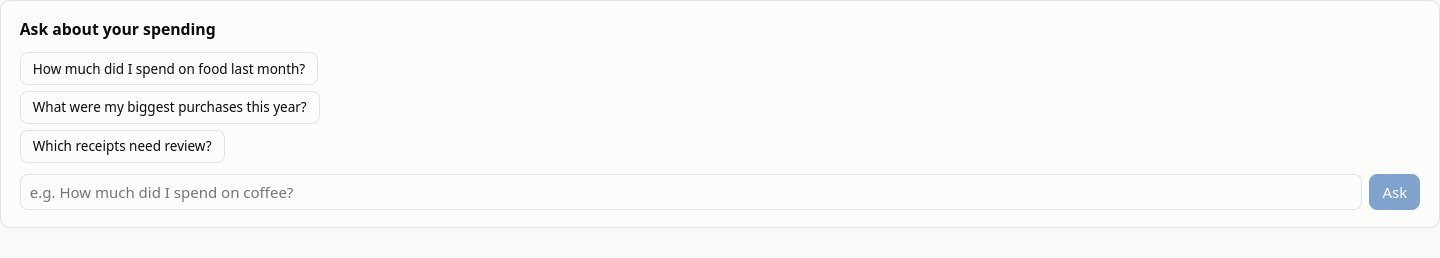
Test case: asks a question and shows the answer with how it was found
In the field named "Question": (691, 192) 20,174 -> 1362,210, type "Food in September?"
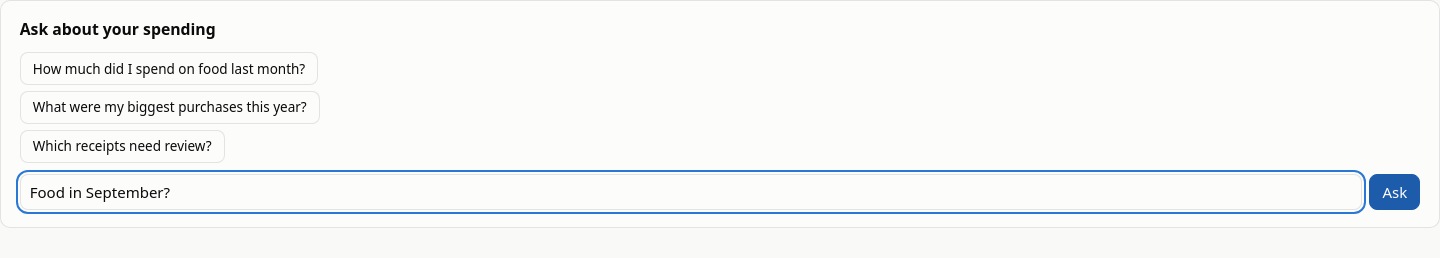
Click the button "Ask": (1395, 192) 1370,174 -> 1420,210
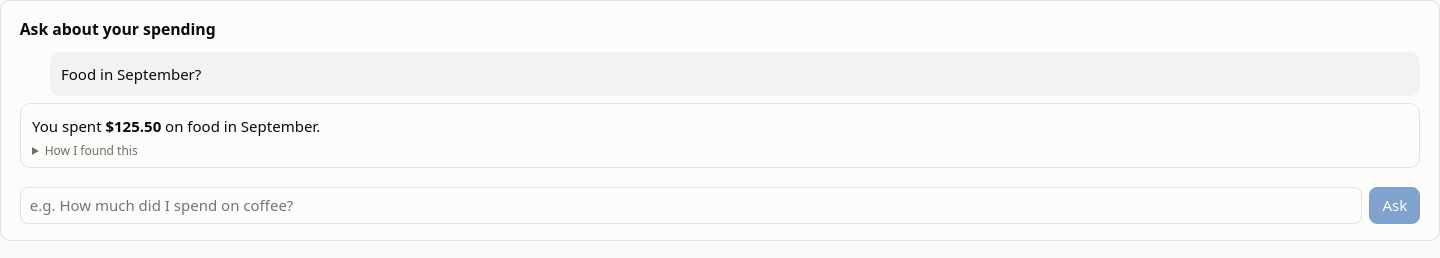
Result: the text "$125.50" is shown at 106,116 -> 161,136
Result: the text "Food in September?" is shown at 61,64 -> 201,84
